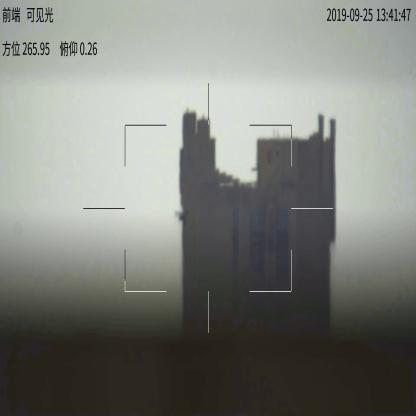uav: (174, 207, 190, 231)
